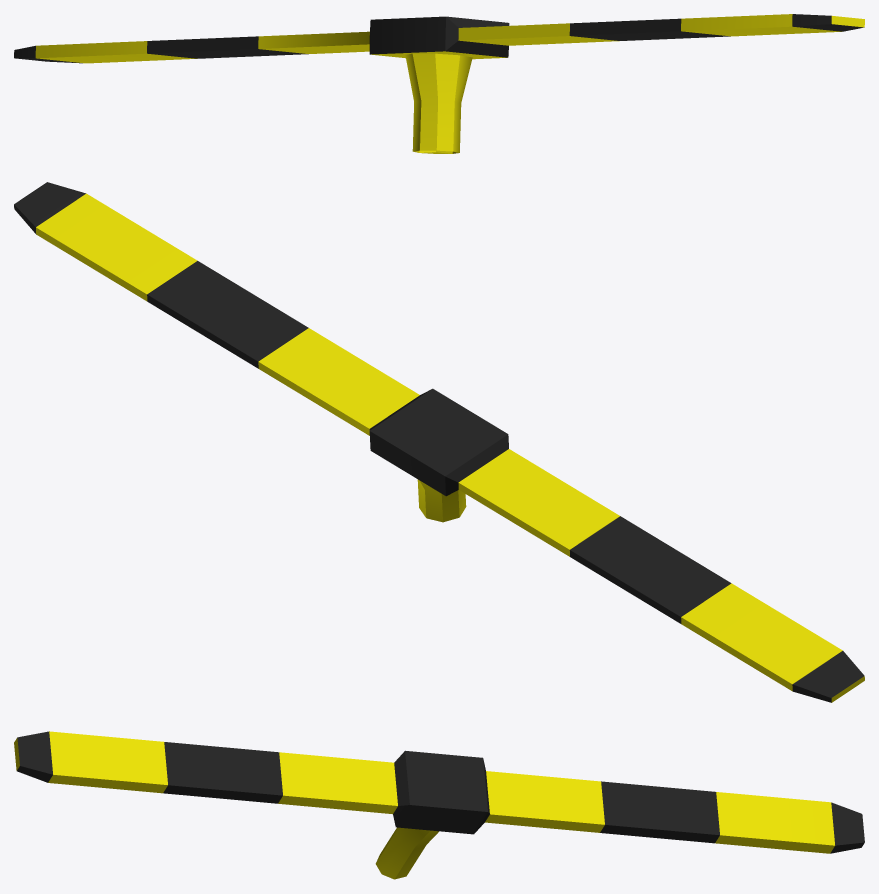
Rendered from drone_costum_Cube.003.fbx.
3 views of the same model, one above another, from view 1: azimuth 30°, elevation 25°; view 2: azimuth 210°, elevation 25°; view 3: azimuth 270°, elevation 25° (orthographic). The views are drawn at different scales.
Parts seen in each view (by area): view 1: drone_costum_Cube_003; view 2: drone_costum_Cube_003; view 3: drone_costum_Cube_003.
Part boxes in pixels (<box>): drone_costum_Cube_003: <box>14,14,864,153</box>; drone_costum_Cube_003: <box>14,182,864,702</box>; drone_costum_Cube_003: <box>14,731,864,879</box>.
Size of the model in its own units: 376 by 245 by 695.
